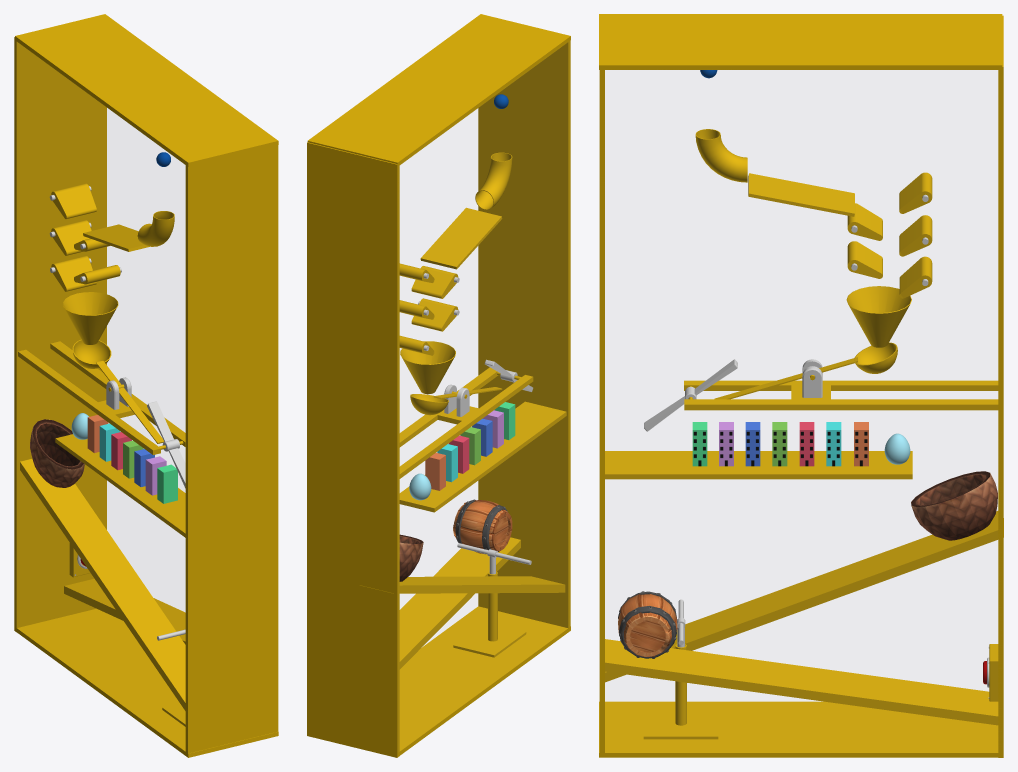
The model's file is Goldberg 1 5.fbx.
3 views of the same model, side by side, from view 1: azimuth 30°, elevation 25°; view 2: azimuth 150°, elevation 25°; view 3: azimuth 270°, elevation 25° (orthographic). The views are drawn at different scales.
Visible parts, largest first — view 1: Masina_1_ram, Postolje2, Postolje_novo, Postolje1, Korpa, Levak, Kasinka_nova, Postolje3, Fliper4, Dascica_1, Fliper3, Elise (+10 smaller); view 2: Masina_1_ram, Postolje3, Postolje_novo, Postolje1, Postolje2, Burence, Dascica_1, Stalak, Levak, Tunel, Fliper, Fliper5 (+11 smaller); view 3: Masina_1_ram, Postolje3, Postolje2, Postolje_novo, Postolje1, Korpa, Burence, Levak, Dascica_1, Stalak, Kasinka_nova, Tunel (+13 smaller).
Boxes of the visible parts, left/top/right/bottom form: Masina_1_ram: left=14, top=14, right=278, bottom=757; Postolje2: left=20, top=458, right=185, bottom=710; Postolje_novo: left=18, top=341, right=185, bottom=454; Postolje1: left=55, top=434, right=185, bottom=537; Korpa: left=30, top=419, right=84, bottom=487; Levak: left=62, top=292, right=118, bottom=344; Kasinka_nova: left=72, top=339, right=164, bottom=443; Postolje3: left=64, top=578, right=185, bottom=644; Fliper4: left=49, top=183, right=96, bottom=218; Dascica_1: left=83, top=224, right=149, bottom=251; Fliper3: left=50, top=256, right=96, bottom=291; Elise: left=147, top=401, right=185, bottom=488; Masina_1_ram: left=307, top=14, right=570, bottom=757; Postolje3: left=399, top=537, right=520, bottom=669; Postolje_novo: left=399, top=367, right=533, bottom=478; Postolje1: left=399, top=401, right=566, bottom=512; Postolje2: left=360, top=576, right=565, bottom=593; Burence: left=453, top=499, right=512, bottom=554; Dascica_1: left=420, top=207, right=502, bottom=269; Stalak: left=453, top=571, right=526, bottom=657; Levak: left=400, top=341, right=455, bottom=394; Tunel: left=475, top=152, right=512, bottom=210; Fliper: left=411, top=266, right=459, bottom=298; Fliper5: left=411, top=298, right=459, bottom=331; Masina_1_ram: left=599, top=14, right=1003, bottom=757; Postolje3: left=605, top=639, right=998, bottom=725; Postolje2: left=605, top=511, right=1003, bottom=682; Postolje_novo: left=684, top=359, right=998, bottom=410; Postolje1: left=605, top=451, right=912, bottom=479; Korpa: left=911, top=471, right=997, bottom=540; Burence: left=618, top=591, right=677, bottom=658; Levak: left=846, top=286, right=911, bottom=347; Dascica_1: left=748, top=173, right=854, bottom=216; Stalak: left=643, top=644, right=718, bottom=739; Kasinka_nova: left=714, top=342, right=897, bottom=399; Tunel: left=695, top=129, right=747, bottom=182.
Bounding box in the file's own units: 7.94 × 49.06 × 25.98.
17 materials, 10 textured.
